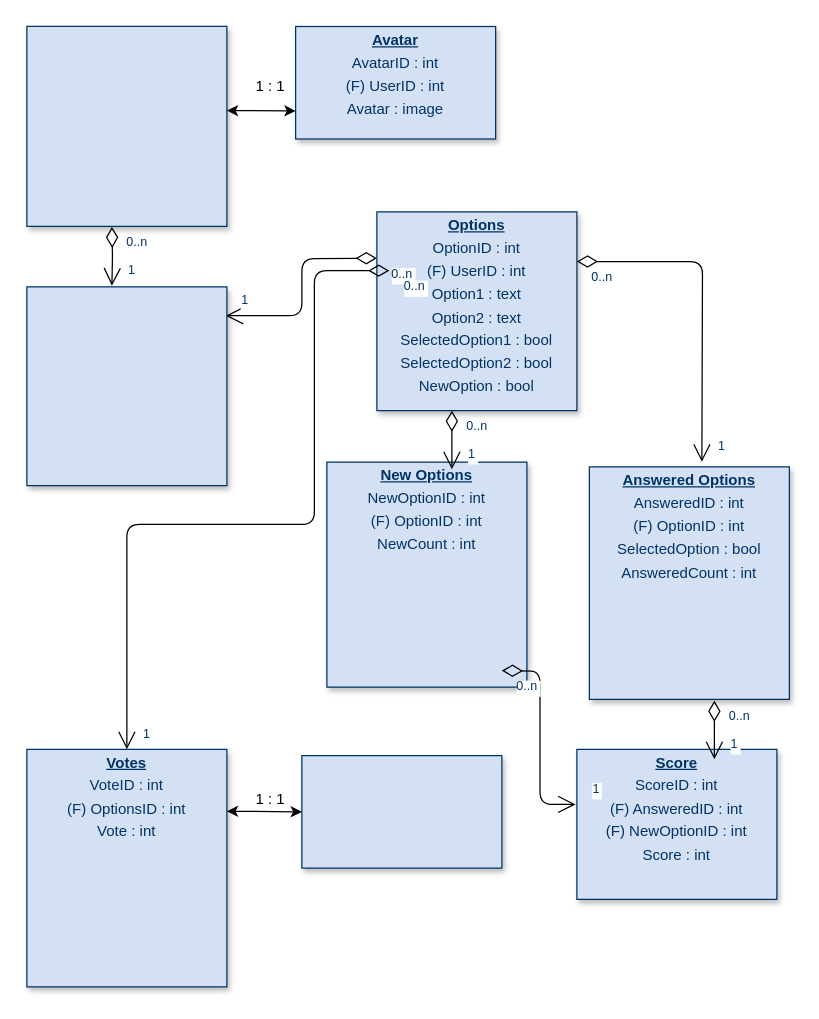
This 819x1019 diagram has some shape labels left out. Each missing label, with the centre of its shape:
Percentages PercentageID : int (F) VoteID : int Percentage : int: point (402, 813)
UserOptions UserID : int (F) OptionID : int: point (127, 387)
Users UserID : int Last Name : text First Name: text: point (127, 127)
